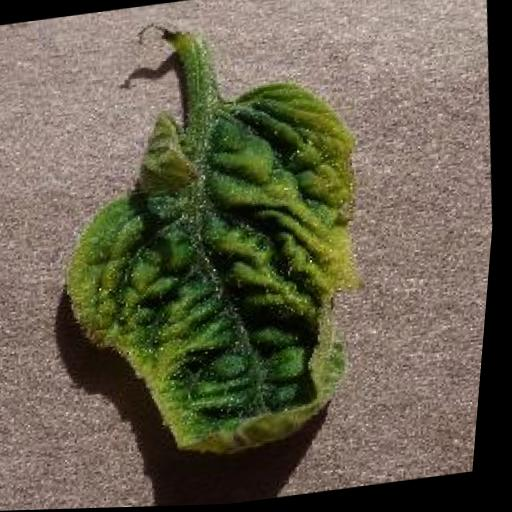Yellow Leaf Curl Virus: (42, 74, 402, 479)
